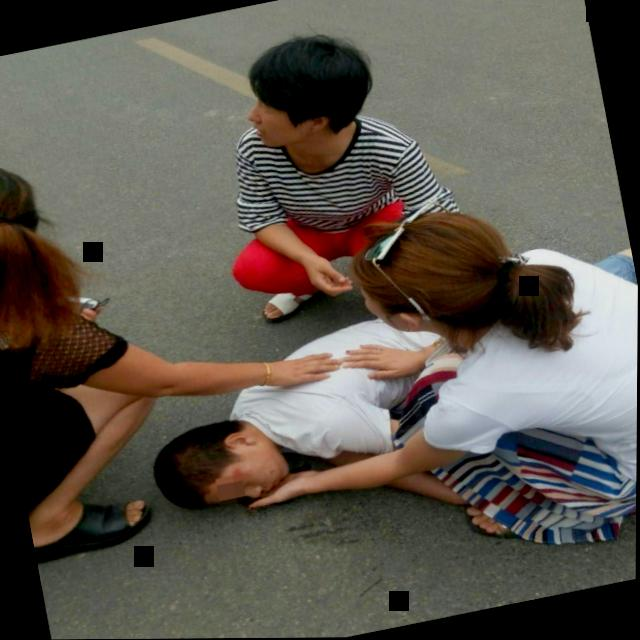Fall-Detected: (132, 252, 531, 543)
